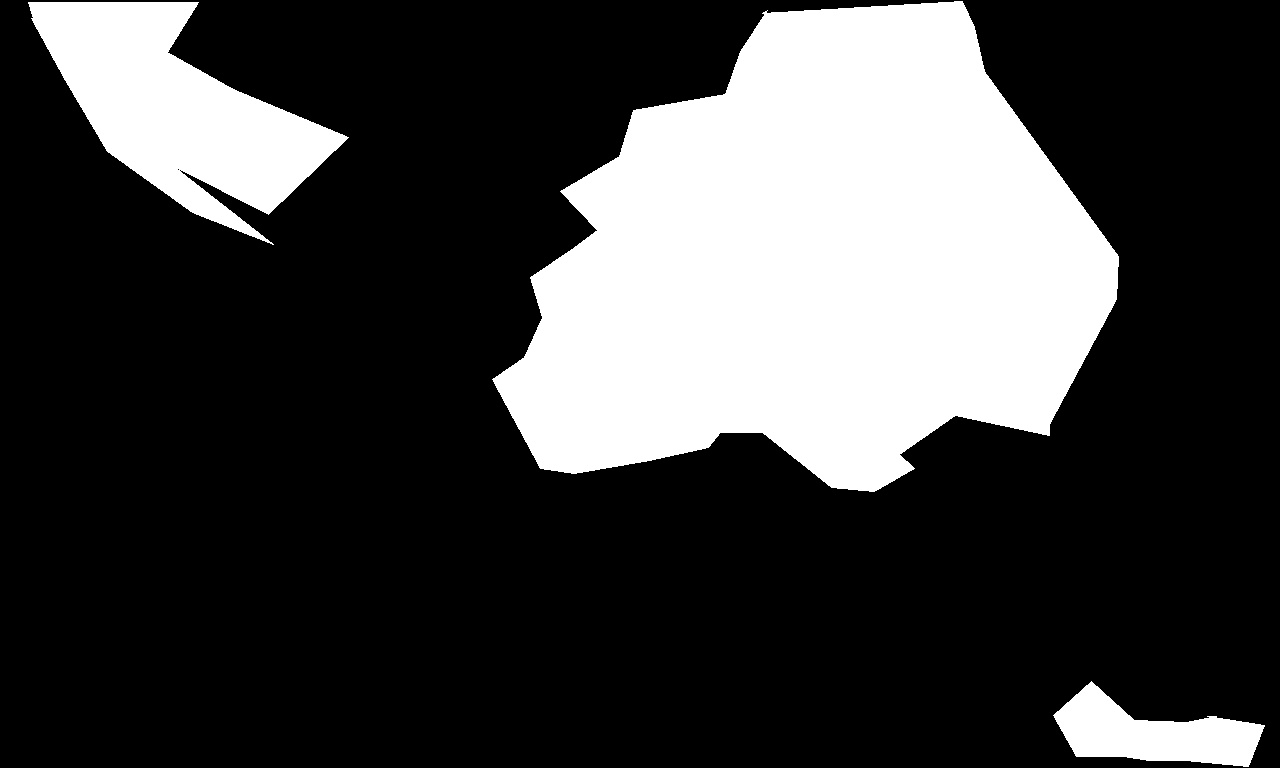fire: (681, 25, 1114, 580)
